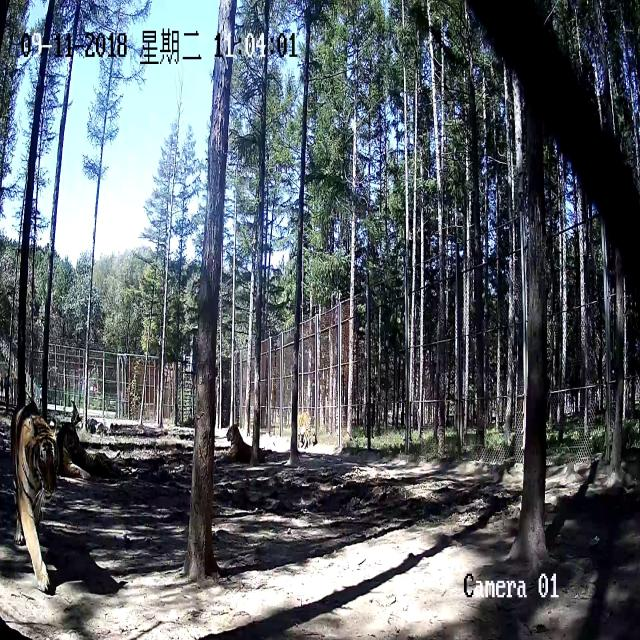Tiger: (10, 388, 69, 596), (210, 421, 280, 468), (51, 413, 91, 481), (91, 447, 132, 488), (292, 404, 318, 456)
